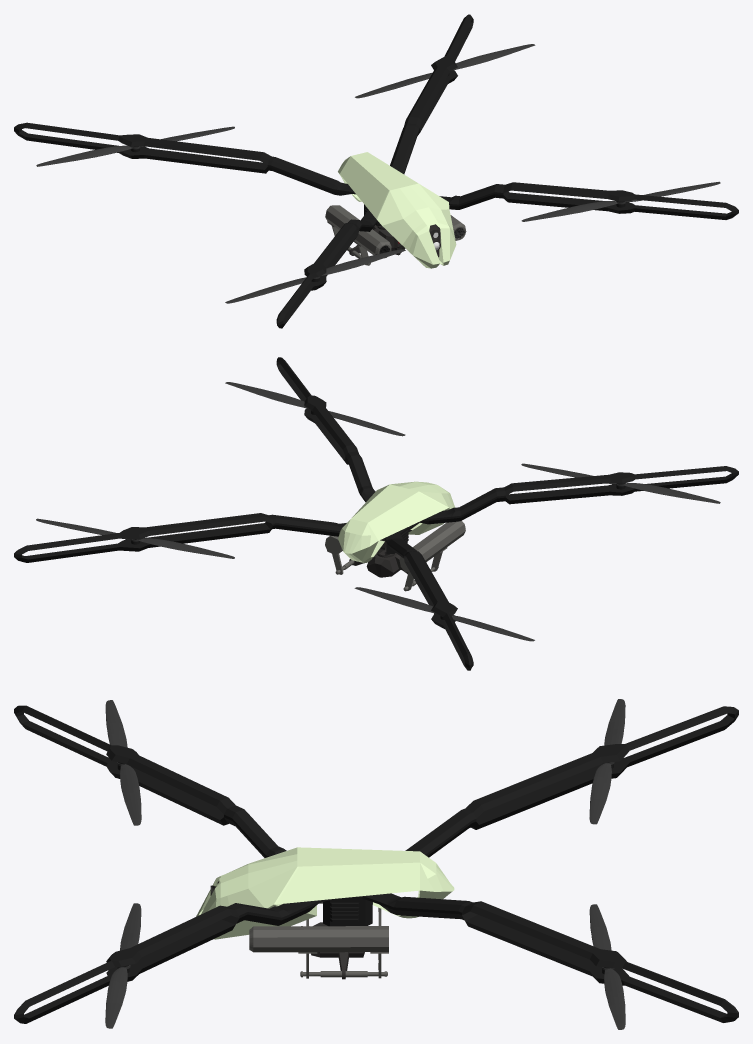
Rendered from scout-drone.glb.
The picture shows the model from 3 angles, top to bottom: view 1: azimuth 30°, elevation 25°; view 2: azimuth 150°, elevation 25°; view 3: azimuth 270°, elevation 25°; orthographic projection. The views are drawn at different scales.
Visible parts, largest first — view 1: Circle.001_Circle.005, Plane.004_Plane.002; view 2: Circle.001_Circle.005, Plane.004_Plane.002; view 3: Circle.001_Circle.005, Plane.004_Plane.002, Plane.002_Plane.004.
Part boxes in pixels (x1,y1,x2,y2): Circle.001_Circle.005: [14, 14, 738, 328]; Plane.004_Plane.002: [338, 152, 456, 268]; Circle.001_Circle.005: [14, 357, 738, 670]; Plane.004_Plane.002: [338, 481, 454, 577]; Circle.001_Circle.005: [14, 699, 738, 1029]; Plane.004_Plane.002: [196, 847, 454, 979]; Plane.002_Plane.004: [249, 926, 388, 978].
Bounding box in the file's own units: 63.58 × 9.23 × 58.88.
5 materials, 5 textured.
